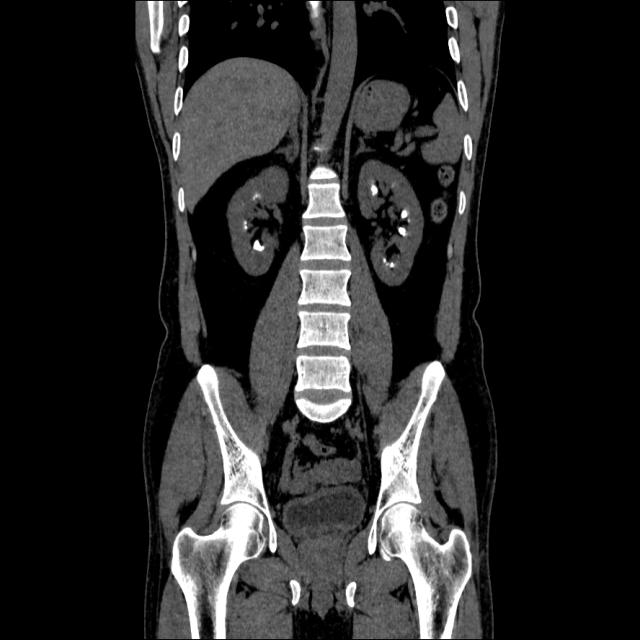kidneystone: (254, 239, 264, 251), (382, 247, 389, 260), (371, 184, 378, 194), (398, 228, 406, 236), (405, 212, 408, 218), (252, 196, 256, 200)
